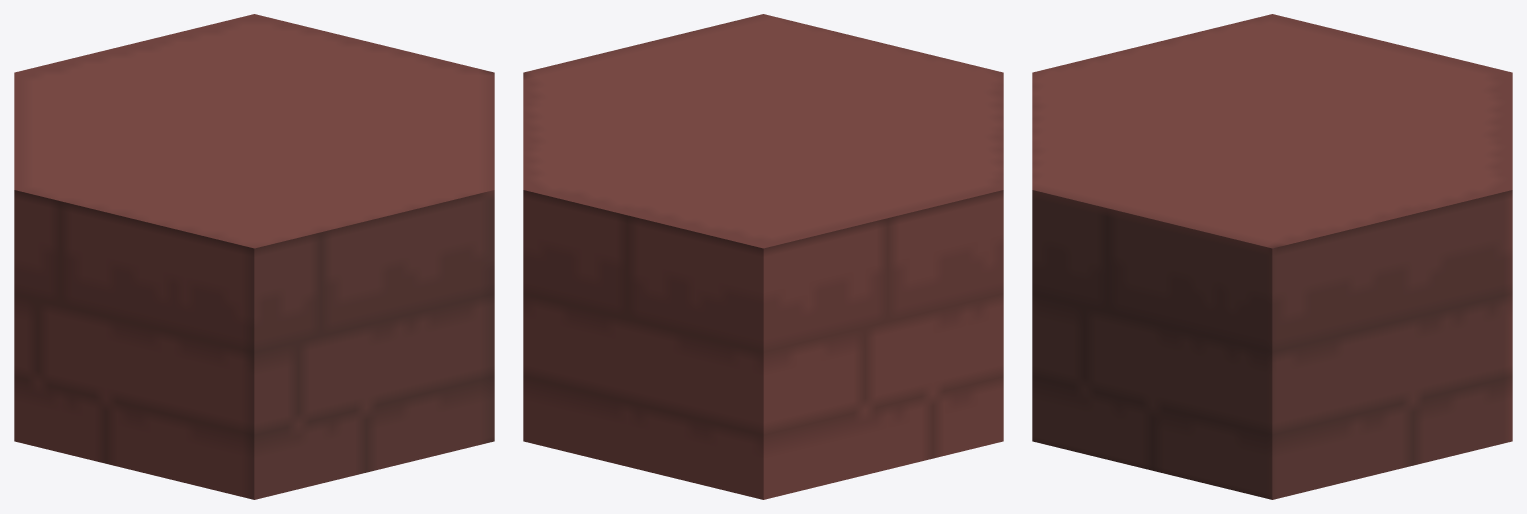
The model's file is wallBrick.glb.
The picture shows the model from 3 angles, left to right: view 1: azimuth 30°, elevation 25°; view 2: azimuth 150°, elevation 25°; view 3: azimuth 270°, elevation 25°; orthographic projection.
Parts seen in each view (by area): view 1: wallBrick; view 2: wallBrick; view 3: wallBrick.
Boxes of the visible parts, <box> form: wallBrick: <box>14,14,494,499</box>; wallBrick: <box>523,14,1003,499</box>; wallBrick: <box>1032,14,1512,499</box>.
Size of the model in its own units: 1 by 0.5 by 0.866.
1 material, 1 textured.
